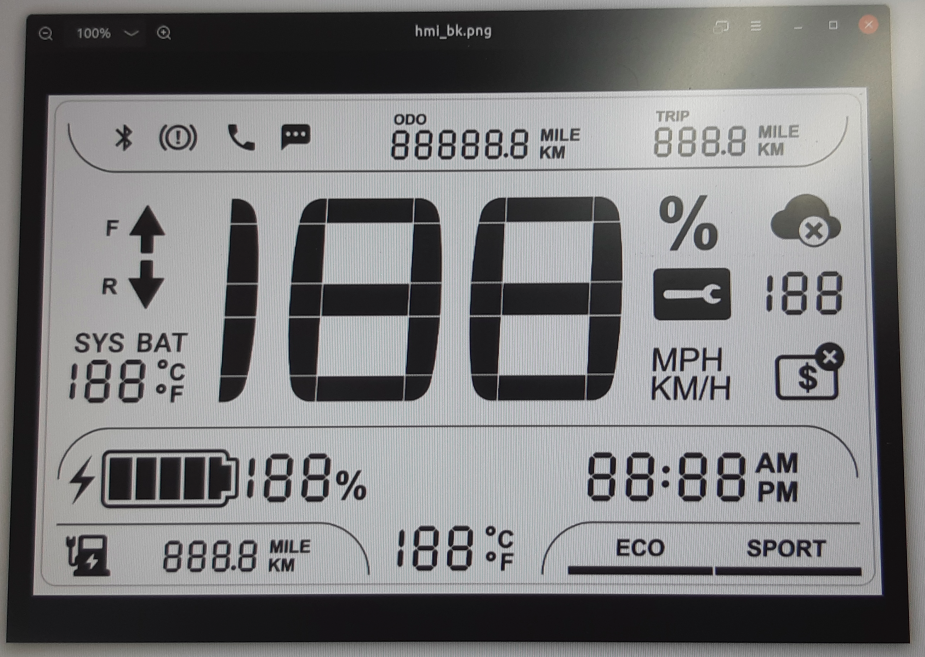bluetooth_on: (110, 121, 140, 153)
braking_on: (155, 121, 202, 155)
calling_on: (222, 119, 259, 155)
connection_lost: (767, 191, 844, 250)
error_code: (648, 264, 735, 324)
low_battery: (63, 530, 115, 579)
sms_on: (277, 120, 316, 153)
vin_id: (771, 338, 850, 403)
